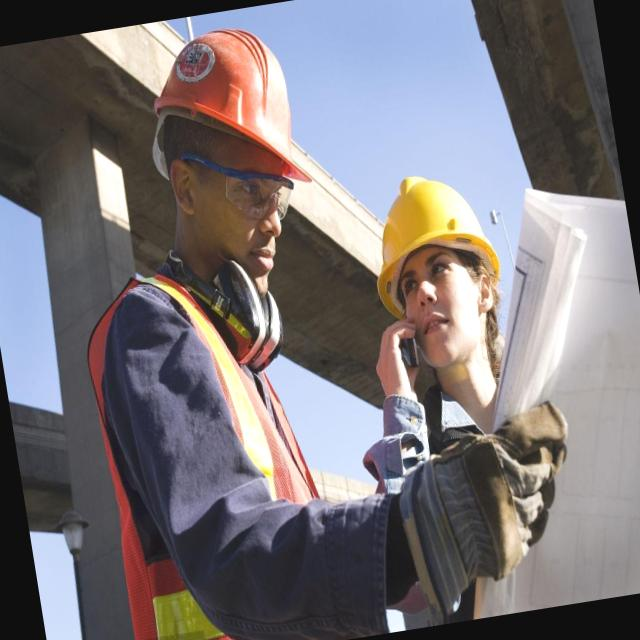goggles: (176, 132, 300, 246)
helmet: (140, 13, 320, 209), (351, 152, 506, 310)
no-goggles: (392, 254, 471, 301)
vest: (75, 242, 342, 640)
